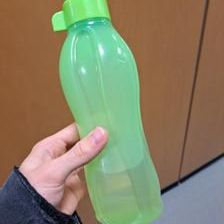bottle: (52, 1, 164, 224)
